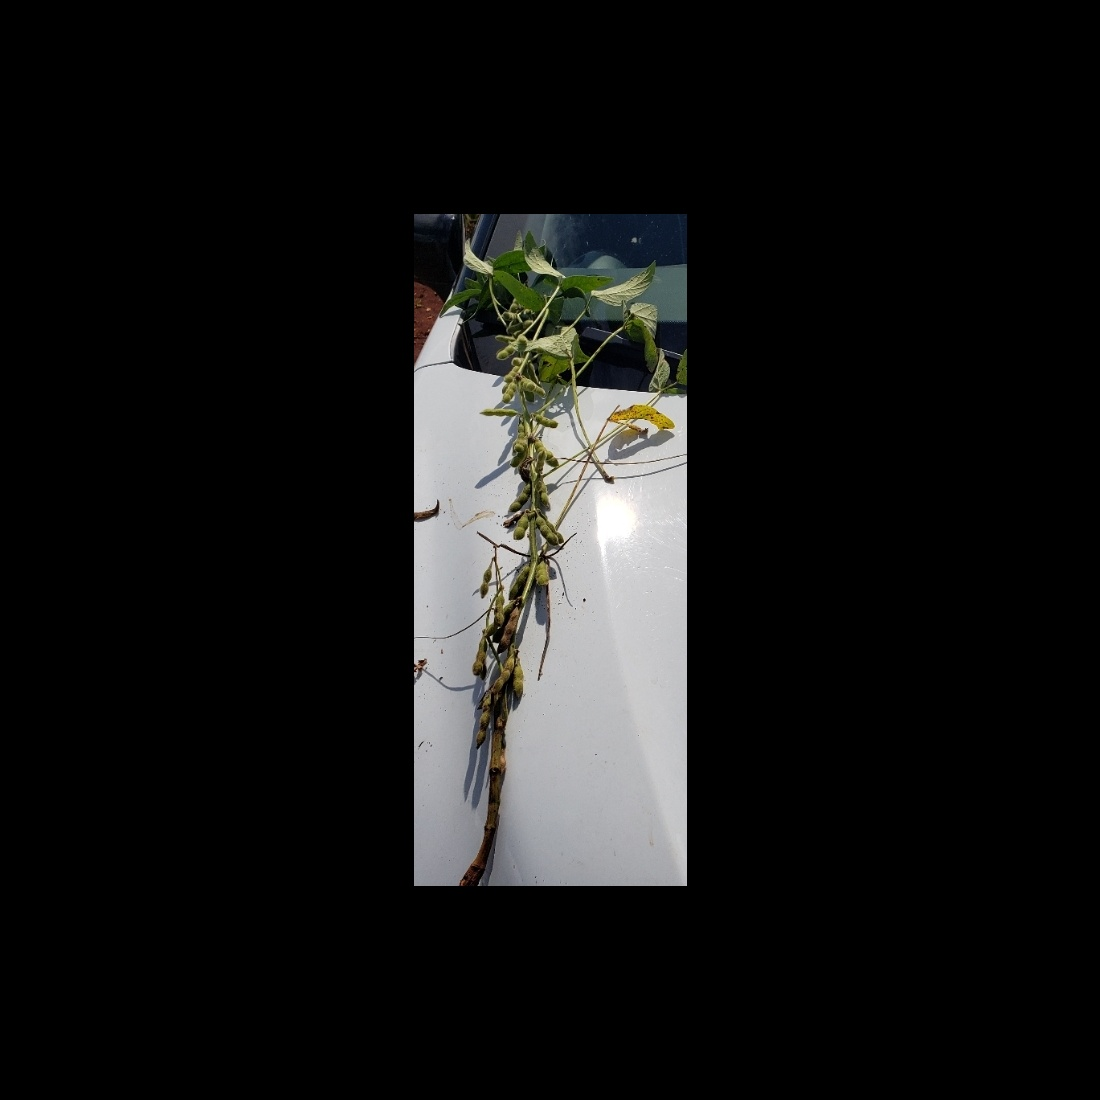pod: (494, 606, 521, 658), (468, 697, 493, 749), (492, 654, 518, 694), (534, 512, 560, 547), (508, 484, 534, 513), (522, 361, 545, 391), (478, 404, 521, 419), (529, 412, 562, 431), (478, 562, 494, 600), (511, 512, 528, 544), (532, 560, 551, 588), (501, 381, 519, 405)
soy: (430, 237, 665, 873)
